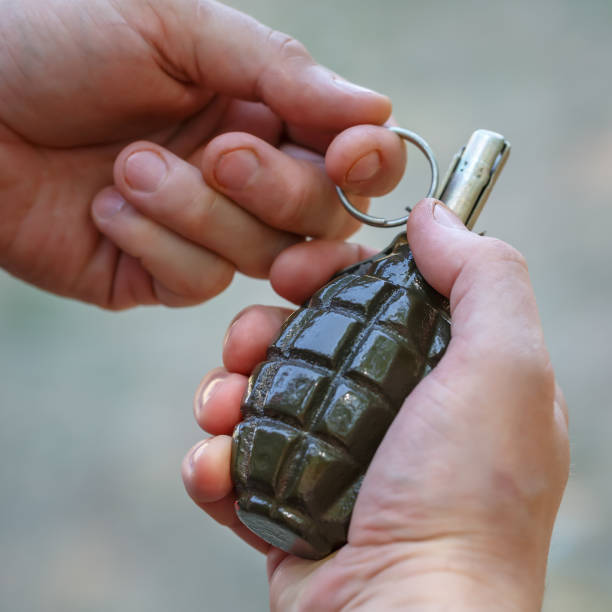e1: (243, 123, 508, 538)
